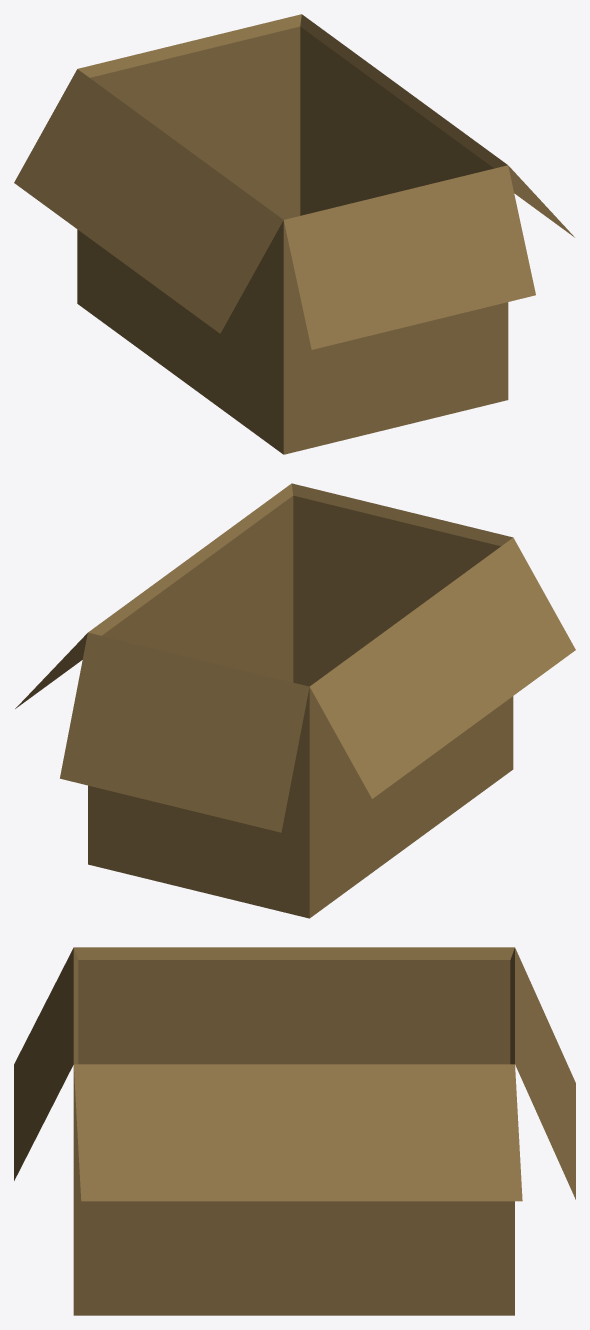
The model's file is cardboardBoxRectangle.fbx.
3 renders of one model, top to bottom at view 1: azimuth 30°, elevation 25°; view 2: azimuth 150°, elevation 25°; view 3: azimuth 270°, elevation 25°, orthographic. The views are drawn at different scales.
Parts seen in each view (by area): view 1: Cube; view 2: Cube; view 3: Cube.
Part boxes in pixels (x1=…): Cube: x1=14, y1=14, x2=574, y2=454; Cube: x1=15, y1=483, x2=575, y2=918; Cube: x1=14, y1=947, x2=575, y2=1315.
Bounding box in the file's own units: 320 × 200 × 406.
